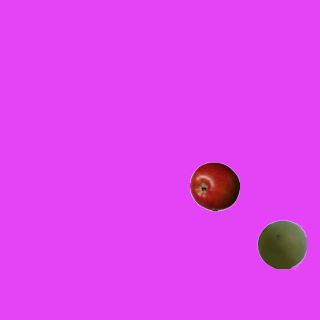Apple Braeburn: (189, 161, 239, 211)
Grape White 4: (256, 219, 306, 269)
